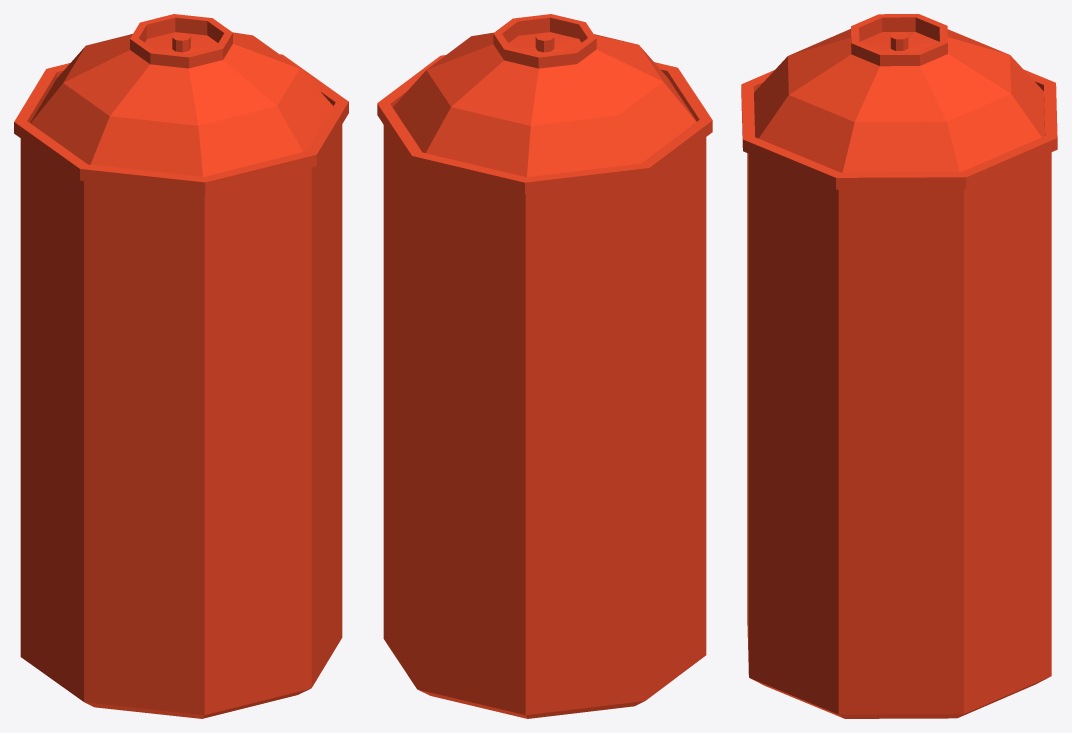
The model's file is SM_Spray_Topless_City.fbx.
The picture shows the model from 3 angles, left to right: view 1: azimuth 30°, elevation 25°; view 2: azimuth 150°, elevation 25°; view 3: azimuth 270°, elevation 25°; orthographic projection.
Parts seen in each view (by area): view 1: SM_Spray_Topless_City; view 2: SM_Spray_Topless_City; view 3: SM_Spray_Topless_City.
Boxes of the visible parts, bbox=[...] form: SM_Spray_Topless_City: bbox=[14, 14, 348, 718]; SM_Spray_Topless_City: bbox=[377, 14, 712, 718]; SM_Spray_Topless_City: bbox=[741, 14, 1057, 718].
Size of the model in its own units: 0.1174 by 0.257 by 0.1174.
